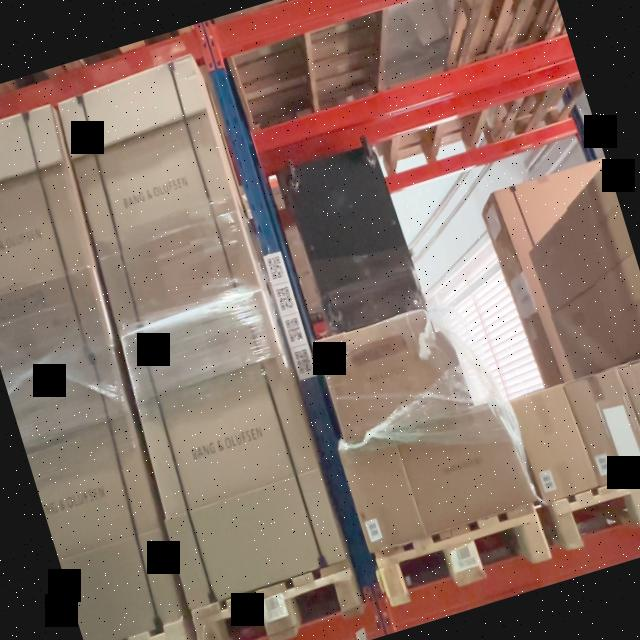box: (119, 285, 346, 611), (58, 54, 261, 333), (316, 300, 476, 442), (395, 399, 536, 536), (509, 382, 602, 504), (341, 436, 426, 552), (562, 364, 640, 484)
